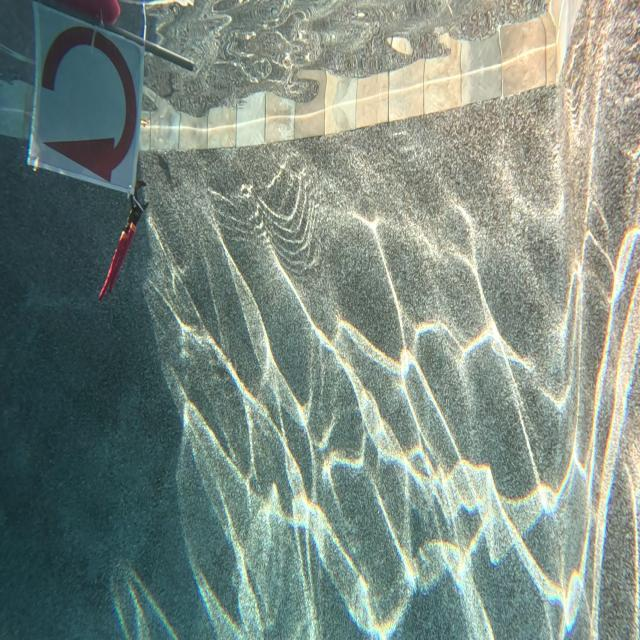red_side: (29, 6, 141, 195)
